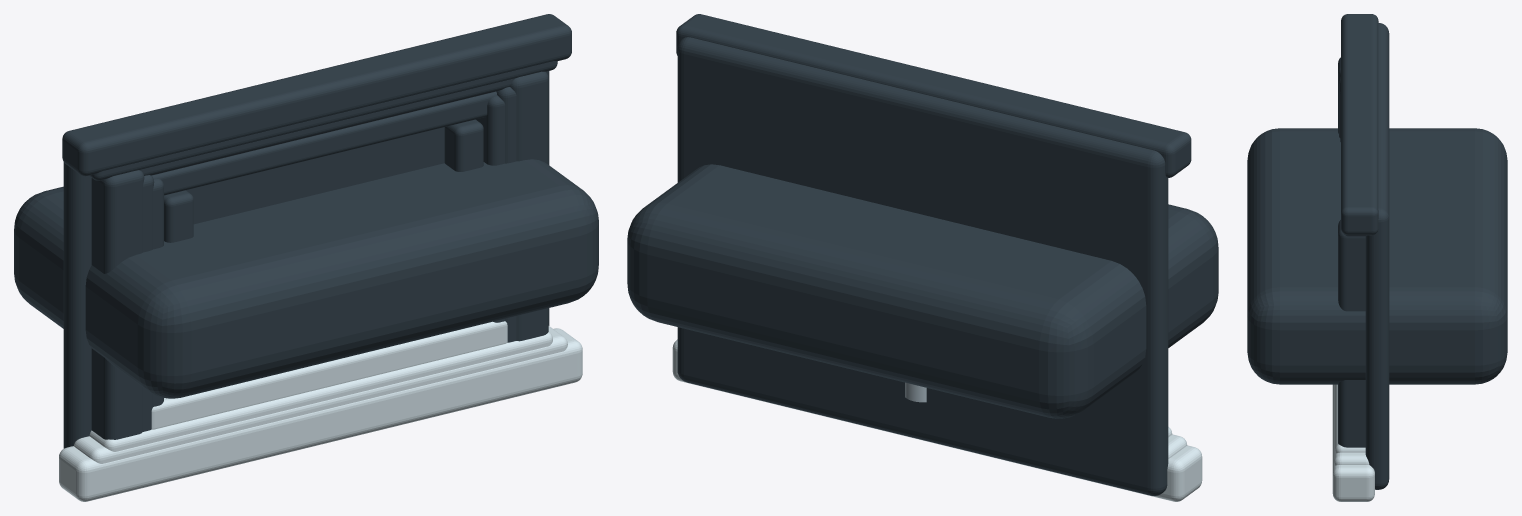
File: body_09.glb
3 views of the same model, side by side, from view 1: azimuth 30°, elevation 25°; view 2: azimuth 150°, elevation 25°; view 3: azimuth 270°, elevation 25° (orthographic). The views are drawn at different scales.
Visible parts, largest first — view 1: asset_mesh__body_0494__reference_body, asset_mesh__body_0520__lower_flange, asset_mesh__body_0520__upper_flange, asset_mesh__body_0520__stamped_sheet, asset_mesh__body_0524__upper_flange, asset_mesh__body_0520__left_reinforcement, asset_mesh__body_0524__lower_flange, asset_mesh__body_0491__upper_flange, asset_mesh__body_0492__upper_flange, asset_mesh__body_0492__lower_flange, asset_mesh__body_0520__right_reinforcement, asset_mesh__body_0491__lower_flange (+6 smaller); view 2: asset_mesh__body_0520__stamped_sheet, asset_mesh__body_0494__reference_body, asset_mesh__body_0520__lower_flange, asset_mesh__body_0520__upper_flange; view 3: asset_mesh__body_0494__reference_body, asset_mesh__body_0520__stamped_sheet, asset_mesh__body_0520__lower_flange, asset_mesh__body_0520__right_reinforcement, asset_mesh__body_0520__upper_flange, asset_mesh__body_0492__upper_flange, asset_mesh__body_0491__upper_flange.
Part boxes in pixels (x1,y1,x2,y2): asset_mesh__body_0494__reference_body: (14,159,598,398); asset_mesh__body_0520__lower_flange: (62,14,571,176); asset_mesh__body_0520__upper_flange: (59,328,582,501); asset_mesh__body_0520__stamped_sheet: (63,71,549,448); asset_mesh__body_0524__upper_flange: (151,321,507,429); asset_mesh__body_0520__left_reinforcement: (91,170,144,439); asset_mesh__body_0524__lower_flange: (152,91,496,195); asset_mesh__body_0491__upper_flange: (89,332,552,451); asset_mesh__body_0492__upper_flange: (74,326,567,463); asset_mesh__body_0492__lower_flange: (89,61,557,180); asset_mesh__body_0520__right_reinforcement: (510,71,548,341); asset_mesh__body_0491__lower_flange: (138,78,515,175); asset_mesh__body_0520__stamped_sheet: (677,37,1168,495); asset_mesh__body_0494__reference_body: (627,164,1218,418); asset_mesh__body_0520__lower_flange: (676,14,1191,177); asset_mesh__body_0520__upper_flange: (672,339,1202,501); asset_mesh__body_0494__reference_body: (1247,128,1507,384); asset_mesh__body_0520__stamped_sheet: (1365,23,1389,489); asset_mesh__body_0520__lower_flange: (1341,14,1378,235); asset_mesh__body_0520__right_reinforcement: (1338,220,1365,447); asset_mesh__body_0520__upper_flange: (1332,384,1374,501); asset_mesh__body_0492__upper_flange: (1334,384,1369,465); asset_mesh__body_0491__upper_flange: (1335,384,1365,453).
Bounding box in the file's own units: 1.63 × 1.09 × 0.882.
